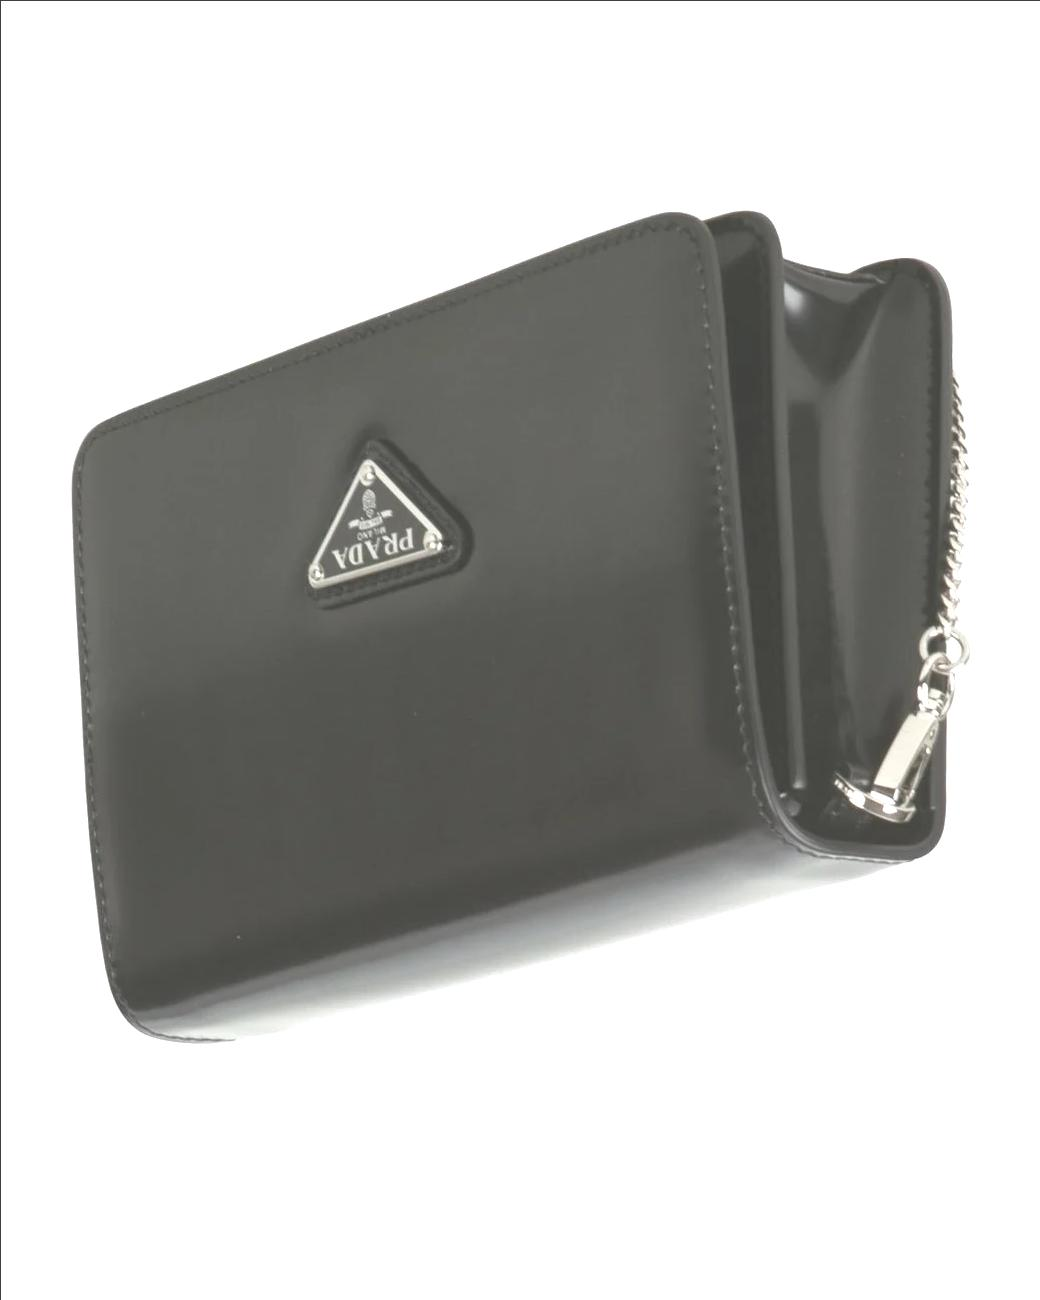PRADA: (305, 458, 443, 588)
